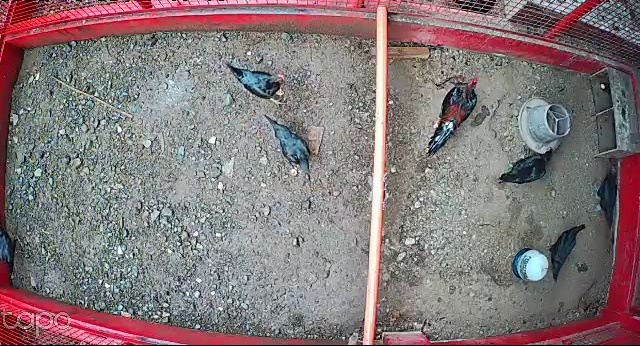Chicken: (261, 112, 311, 174), (224, 62, 291, 108), (497, 143, 554, 187), (546, 221, 585, 283), (591, 166, 619, 227)
Drinker: (512, 248, 548, 283)
Feeder: (518, 97, 573, 155)
Rooster: (425, 76, 479, 158)
